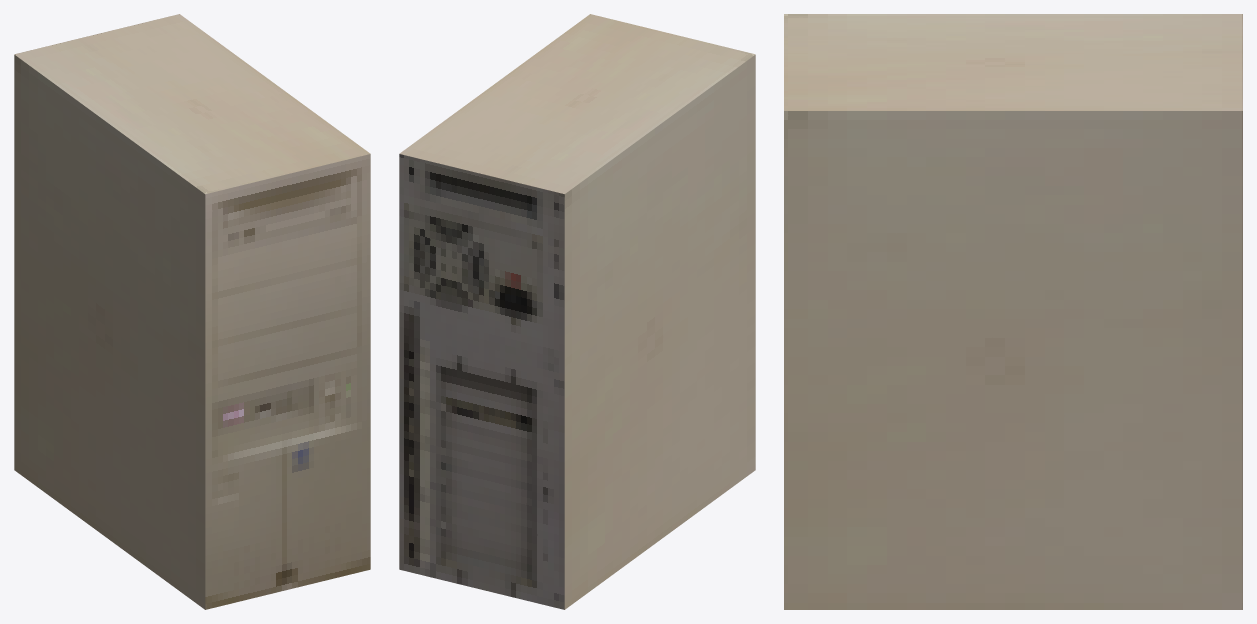
The model's file is computer.glb.
3 renders of one model, left to right at view 1: azimuth 30°, elevation 25°; view 2: azimuth 150°, elevation 25°; view 3: azimuth 270°, elevation 25°, orthographic. The views are drawn at different scales.
Parts seen in each view (by area): view 1: Computer; view 2: Computer; view 3: Computer.
Boxes of the visible parts, box(x1,y1,x2,y2) form: Computer: box(14, 14, 370, 609); Computer: box(399, 14, 755, 609); Computer: box(784, 14, 1242, 609).
Bounding box in the file's own units: 0.25 × 0.6 × 0.5.
Materials: 1 (1 with a texture image).
